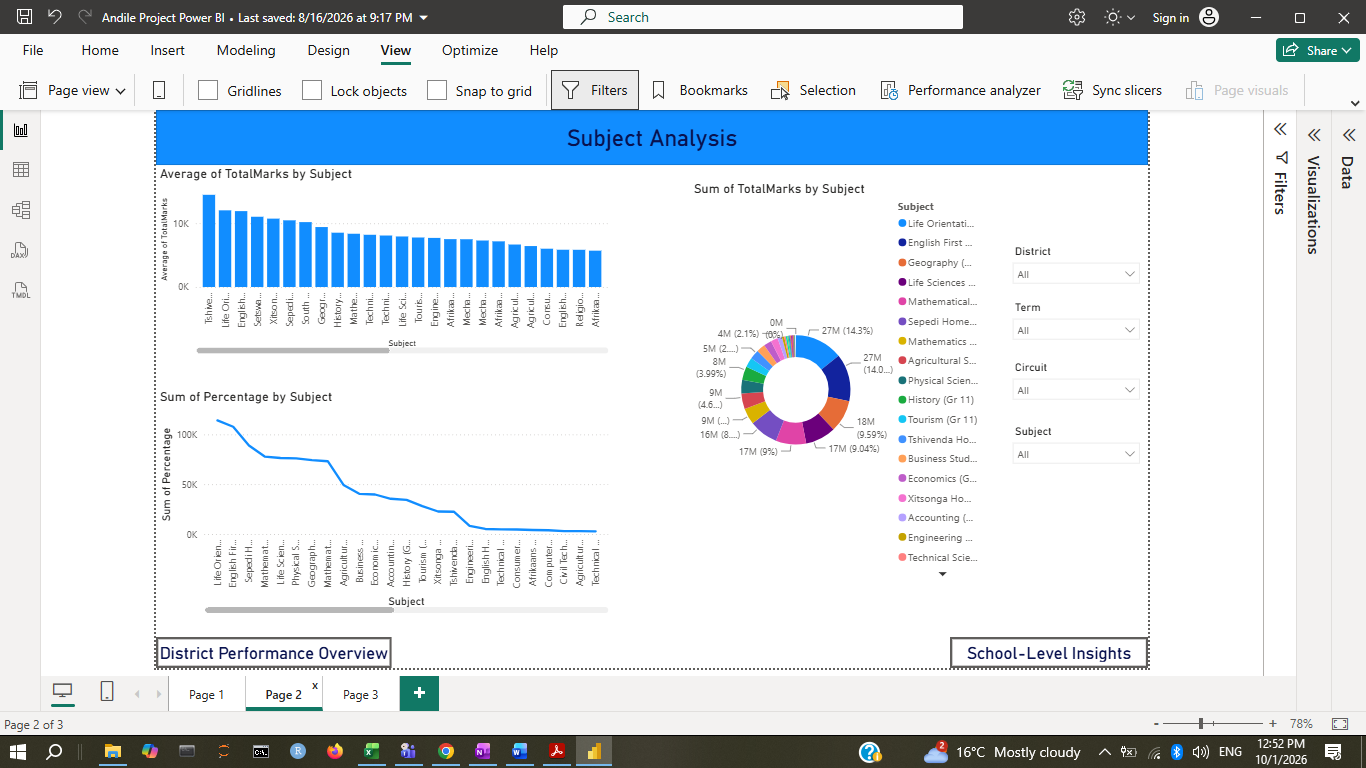

This screenshot's page, from the dashboard's own definition file:
{"tool":"powerbi","page":{"name":"Page 2","canvas":[1280,720],"ordinal":1},"visuals":[{"type":"shape","box":[0,0,1280,71.2],"z":1000},{"type":"donutChart","fields":{"Category":["Sheet2.Name"],"Y":["Sum(Sheet2.TotalMarks)"]},"box":[688.6,91.4,387.1,520],"z":1001},{"type":"columnChart","fields":{"Category":["Sheet2.Name"],"Y":["Avg(Sheet2.TotalMarks)"]},"box":[0,72.9,588.6,247.1],"z":1002},{"type":"lineChart","fields":{"Category":["Sheet2.Name"],"Y":["Sum(Sheet2.Percentage)"]},"box":[0,360,588.6,294.3],"z":1003},{"type":"actionButton","box":[1024.3,680,255.7,40],"z":1005},{"type":"actionButton","box":[0,680,304.3,40],"z":1006},{"type":"slicer","fields":{"Values":["Sheet2.Term"]},"box":[1095.7,241.4,184.3,77.1],"z":1007},{"type":"slicer","fields":{"Values":["Sheet2.District"]},"box":[1095.7,168.6,184.3,72.9],"z":1008},{"type":"slicer","fields":{"Values":["Sheet2.Circuit"]},"box":[1095.7,318.6,184.3,82.9],"z":1009},{"type":"slicer","fields":{"Values":["Sheet2.Name"]},"box":[1095.7,401.4,184.3,71.4],"z":1010}]}

Visuals, with their boxes on the page's 1280x720 design canvas (x1, y1, x2, y2). These are canvas units, not pixel positions in the 1366x768 screenshot, which may show the page scaled, cropped or inside an application window:
shape: 0,0,1280,71
donutChart - Sheet2.Name x Sum(Sheet2.TotalMarks): 689,91,1076,611
columnChart - Sheet2.Name x Avg(Sheet2.TotalMarks): 0,73,589,320
lineChart - Sheet2.Name x Sum(Sheet2.Percentage): 0,360,589,654
actionButton: 1024,680,1280,720
actionButton: 0,680,304,720
slicer - Sheet2.Term: 1096,241,1280,318
slicer - Sheet2.District: 1096,169,1280,242
slicer - Sheet2.Circuit: 1096,319,1280,402
slicer - Sheet2.Name: 1096,401,1280,473
